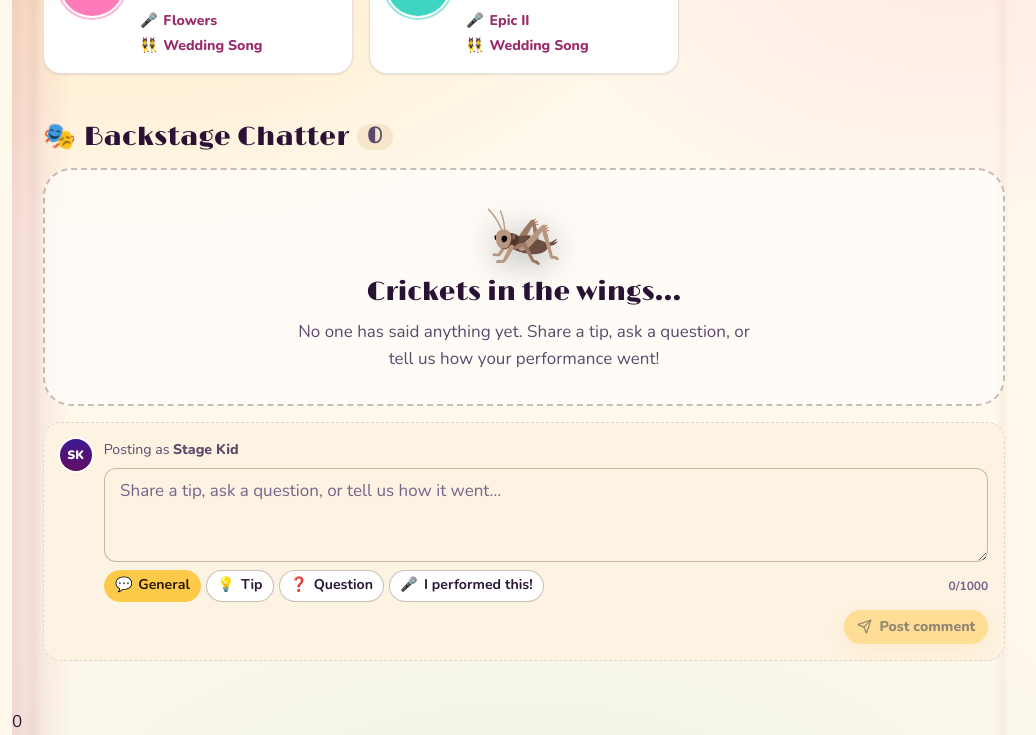
Test: ShowDetailPage › keeps the /shows poster-wall comment count in sync after commenting
(page scrolled)
Expected: the text with test id "wall-count" reads "0", x1=12 y1=710 x2=22 y2=733
In the text box with test id "comment-input": coordinates (546, 515) x1=104 y1=468 x2=988 y2=562, type "Loved this show"
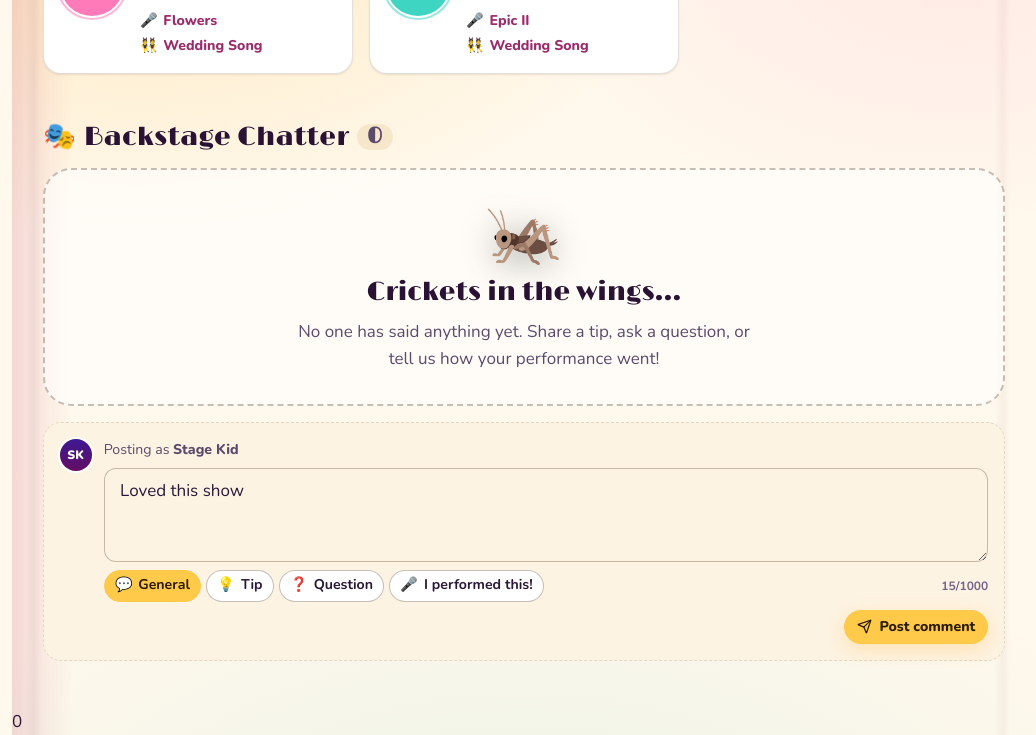
Click the button with test id "comment-submit": coordinates (916, 627) x1=844 y1=610 x2=988 y2=644
(page scrolled)
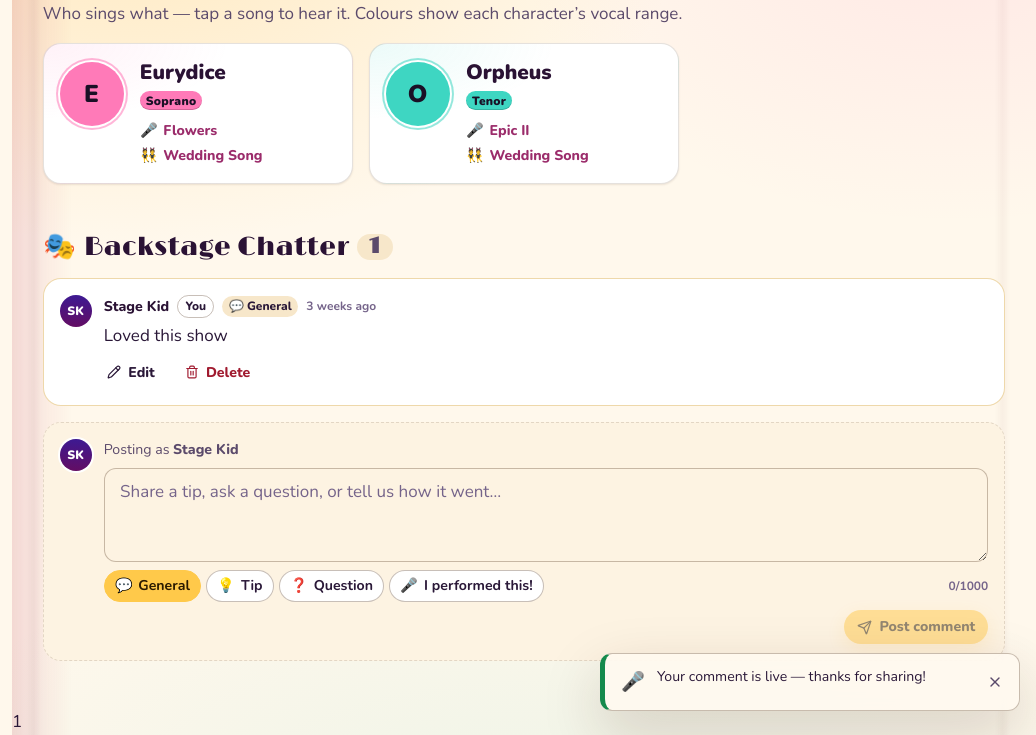
Expected: the text with test id "wall-count" reads "1", x1=12 y1=710 x2=22 y2=733
